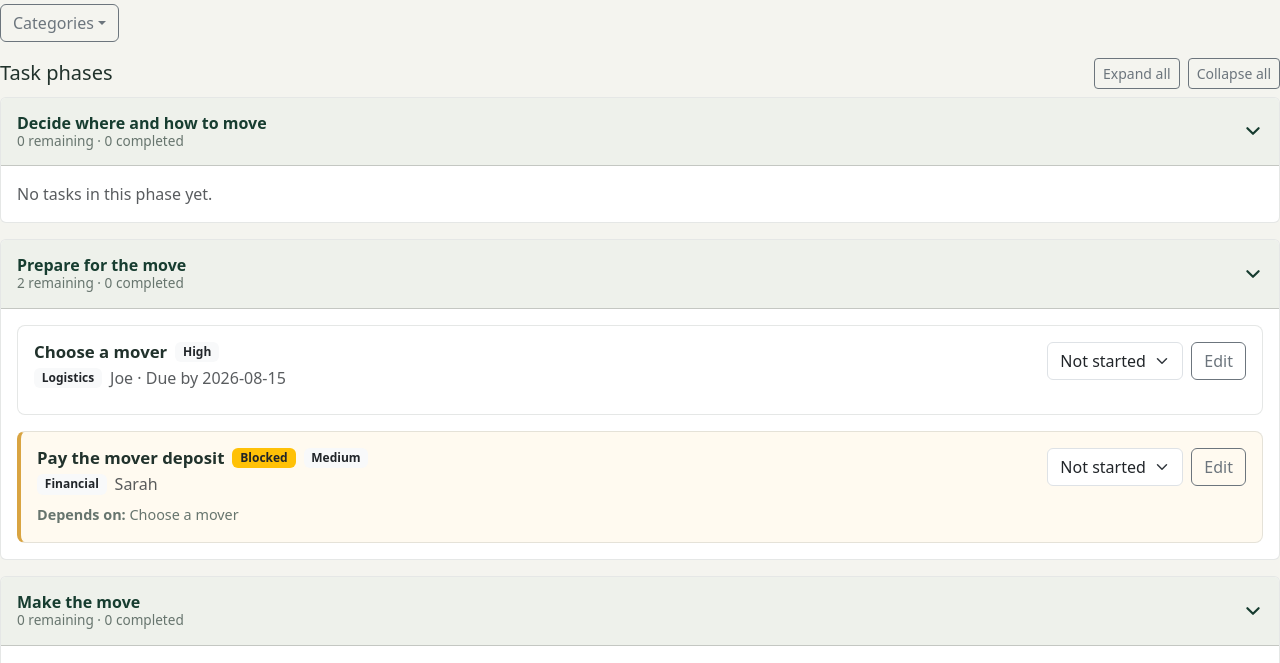
Test: relocation-plan recommendation experience › changes the recommendation after completing the recommended task
(page scrolled)
Select "Completed" in the dropdown named "Status for Choose a mover". click: (1115, 361)
box: x1=1047 y1=342 x2=1183 y2=380
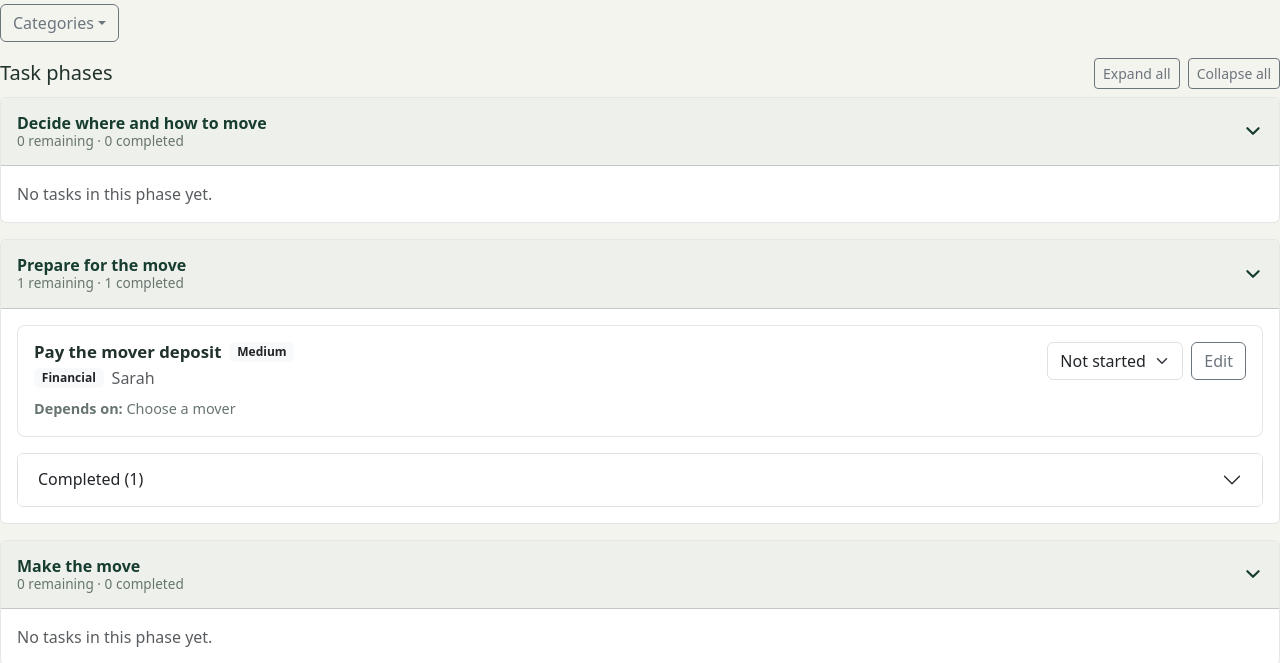
Now the number of headings "Pay the mover deposit" is 2
Click the button "Completed (1)". click: (84, 479)
box: x1=18 y1=454 x2=1262 y2=506
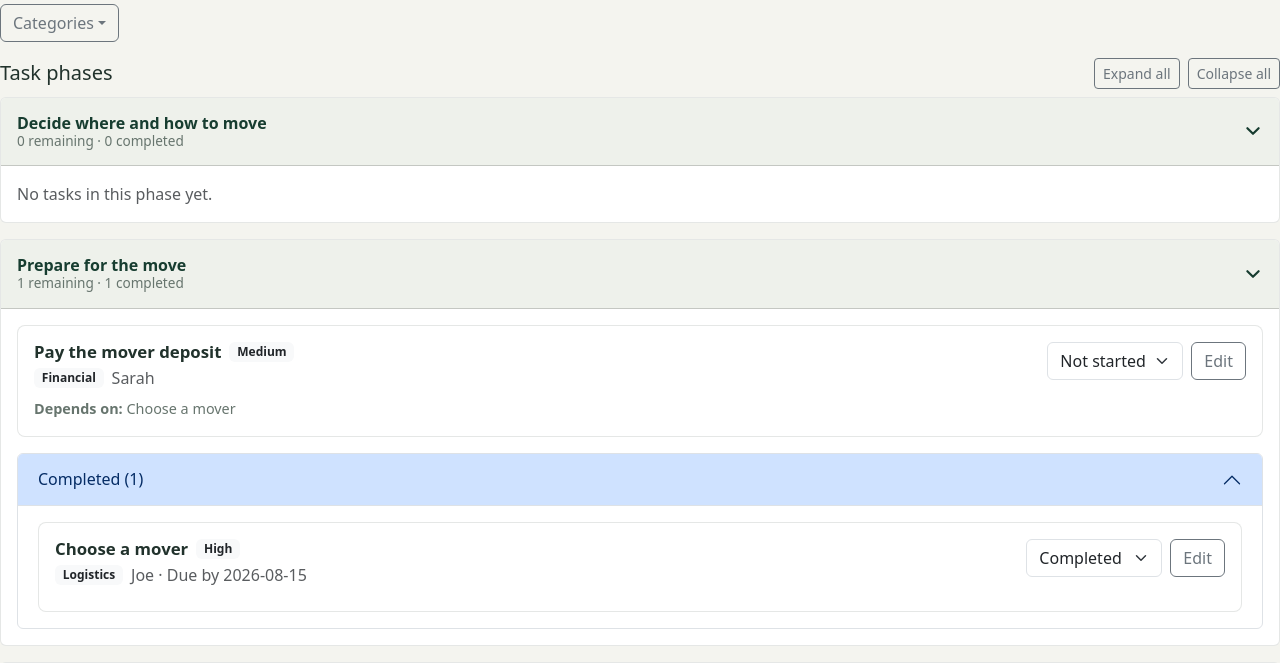
Now the dropdown named "Status for Choose a mover" shows "Completed", box x1=1026 y1=539 x2=1162 y2=577
